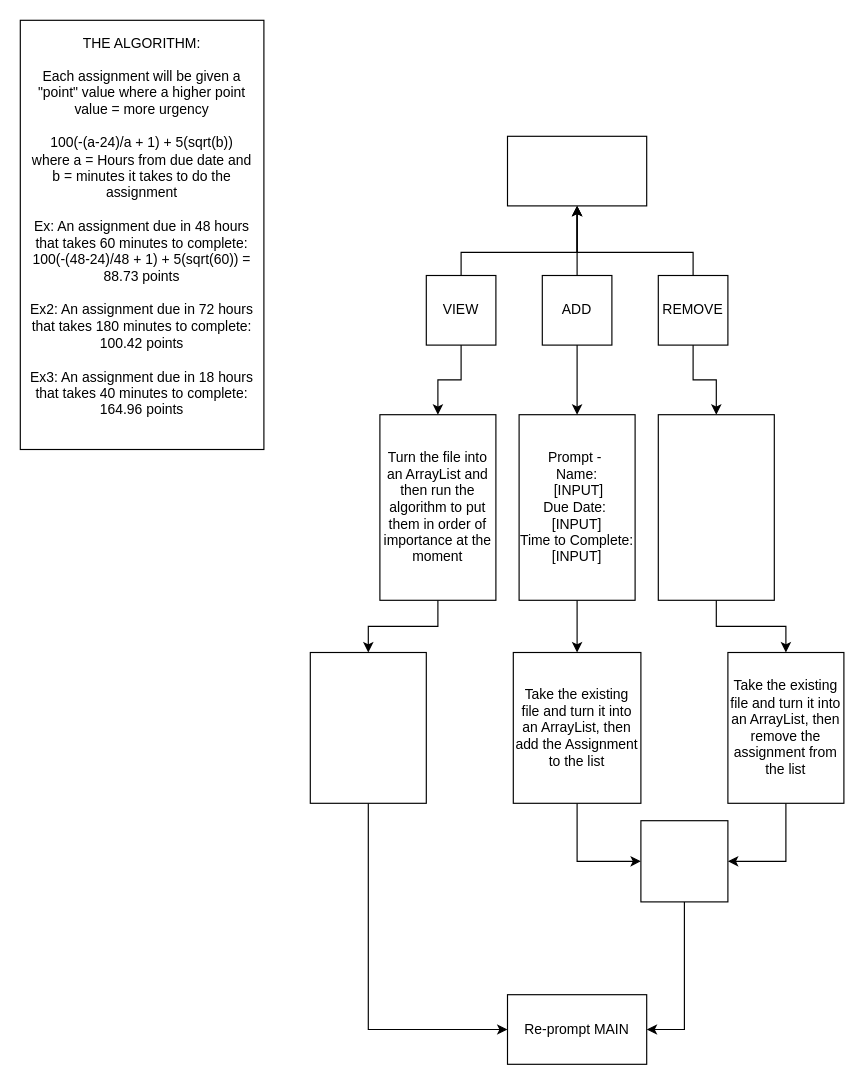
This 864x1085 diagram has some shape labels left out. The shapes that lost their labels are listed below. From the top down, each one's box as (x1, y1, x2, y2) in pixels, then its label:
(506, 135, 647, 206): MAIN
(657, 414, 774, 600): Prompt - Name: [INPUT]
(309, 651, 426, 803): If an assignment is passed the due date, remove it from the list
(640, 820, 728, 902): Run the VIEW command automatically
